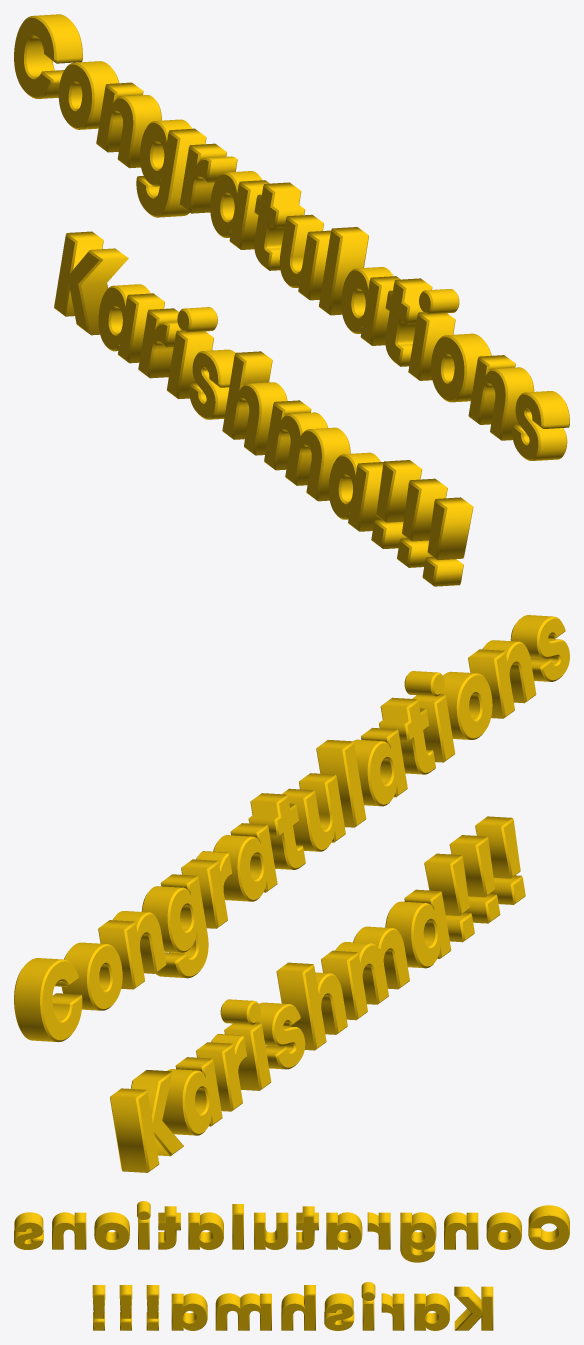
The model's file is wishes3.gltf.
3 renders of one model, top to bottom at view 1: azimuth 30°, elevation 25°; view 2: azimuth 150°, elevation 25°; view 3: azimuth 270°, elevation 25°, orthographic. The views are drawn at different scales.
Parts seen in each view (by area): view 1: Text.002; view 2: Text.002; view 3: Text.002.
Part boxes in pixels (bbox=[...]): Text.002: bbox=[14, 14, 569, 586]; Text.002: bbox=[14, 615, 569, 1172]; Text.002: bbox=[14, 1201, 569, 1330].
Bounding box in the file's own units: 0.4332 × 1.5 × 5.63.
